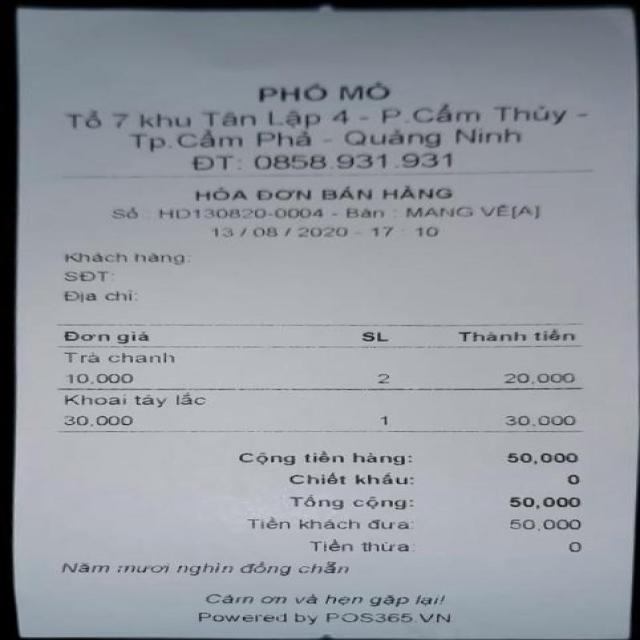Date: (195, 222, 358, 242)
Store_Name: (238, 78, 408, 106)
Total_Amount: (36, 485, 589, 515)
